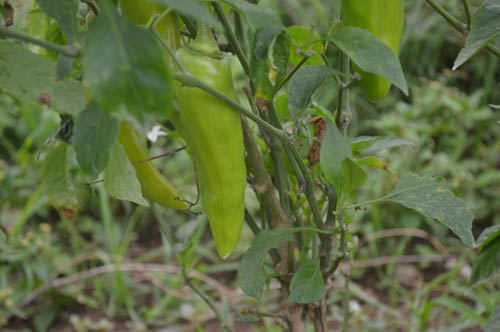ChiliPepper: (178, 51, 250, 262), (344, 5, 406, 105), (120, 131, 192, 211)
